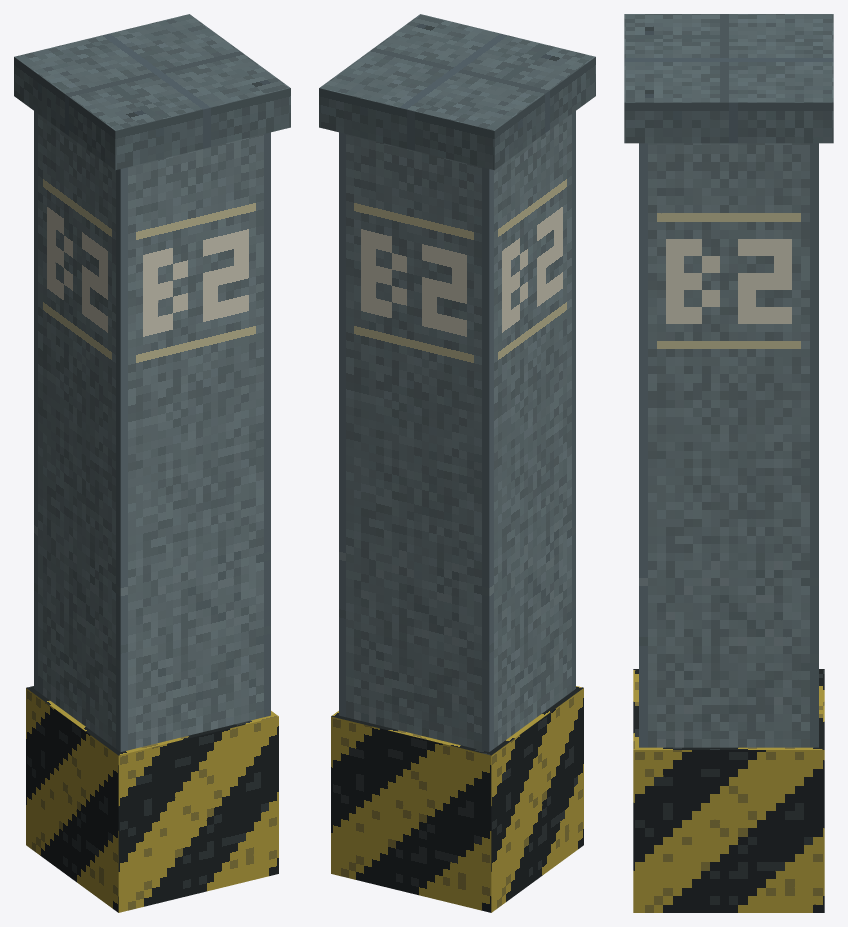
File: pillar.gltf
The picture shows the model from 3 angles, left to right: view 1: azimuth 30°, elevation 25°; view 2: azimuth 150°, elevation 25°; view 3: azimuth 270°, elevation 25°; orthographic projection. The views are drawn at different scales.
Parts seen in each view (by area): view 1: pillar; view 2: pillar; view 3: pillar.
Part boxes in pixels (x1,y1,x2,y2): pillar: [14, 14, 290, 912]; pillar: [319, 14, 595, 912]; pillar: [624, 14, 833, 912].
Size of the model in its own units: 0.7 by 3 by 0.7.
3 materials, 3 textured.
